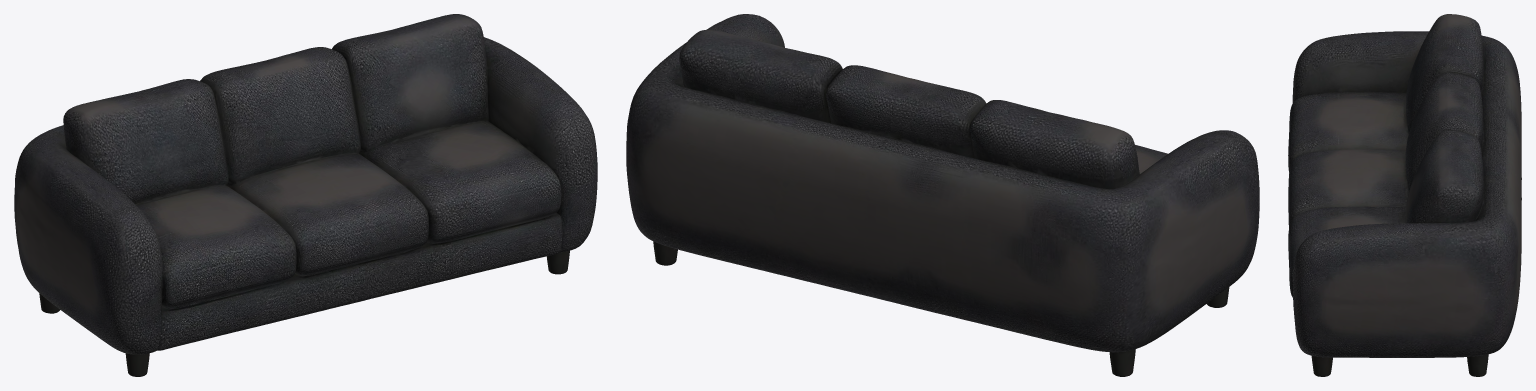
Rendered from sofa.glb.
The picture shows the model from 3 angles, left to right: view 1: azimuth 30°, elevation 25°; view 2: azimuth 150°, elevation 25°; view 3: azimuth 270°, elevation 25°; orthographic projection. The views are drawn at different scales.
Visible parts, largest first — view 1: tripo_node_4098a23a-3137-4a23-b1d9-4338fed7cc7a; view 2: tripo_node_4098a23a-3137-4a23-b1d9-4338fed7cc7a; view 3: tripo_node_4098a23a-3137-4a23-b1d9-4338fed7cc7a.
Boxes of the visible parts, <box> form: tripo_node_4098a23a-3137-4a23-b1d9-4338fed7cc7a: <box>14,14,597,376</box>; tripo_node_4098a23a-3137-4a23-b1d9-4338fed7cc7a: <box>626,14,1259,376</box>; tripo_node_4098a23a-3137-4a23-b1d9-4338fed7cc7a: <box>1288,14,1521,376</box>.
Bounding box in the file's own units: 1.8 × 0.7199 × 0.8222.
1 material, 1 textured.
